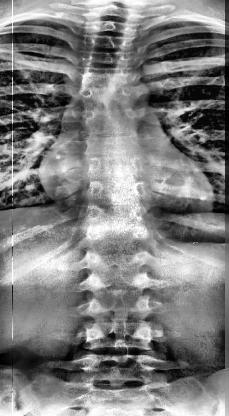Vertebrae: (80, 314, 158, 352), (78, 351, 158, 387), (77, 269, 159, 299), (78, 244, 156, 274), (82, 289, 156, 319), (83, 221, 155, 250), (82, 203, 151, 230), (78, 107, 140, 137), (84, 178, 148, 206), (85, 153, 146, 181), (82, 132, 144, 158), (75, 63, 133, 89), (76, 83, 134, 109), (82, 30, 138, 52), (79, 44, 135, 66), (82, 5, 146, 24), (82, 19, 140, 37)
